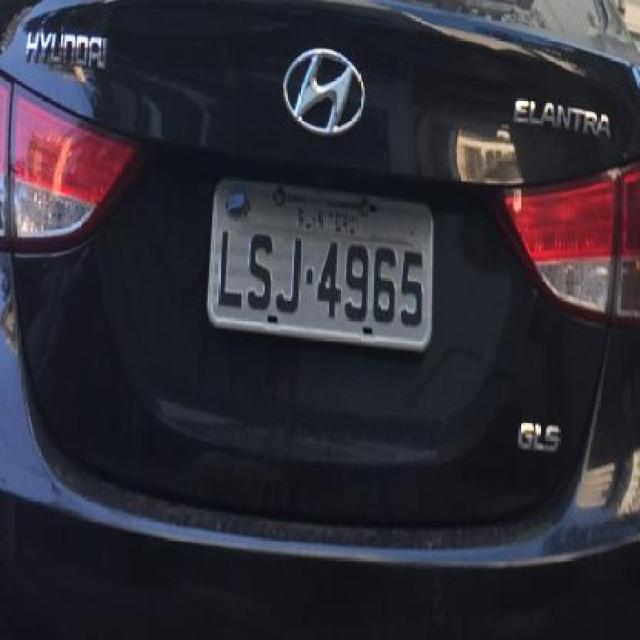old_plate: (202, 169, 444, 361)
